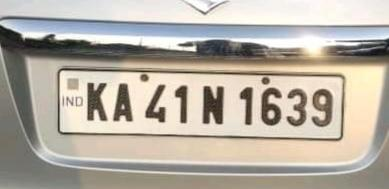1: (171, 81, 193, 127), (236, 83, 257, 128)
3: (286, 86, 309, 128)
4: (143, 79, 168, 124)
6: (260, 84, 284, 127)
9: (312, 85, 336, 132)
A: (112, 80, 135, 123)
K: (83, 79, 110, 123)
N: (200, 82, 227, 128)
